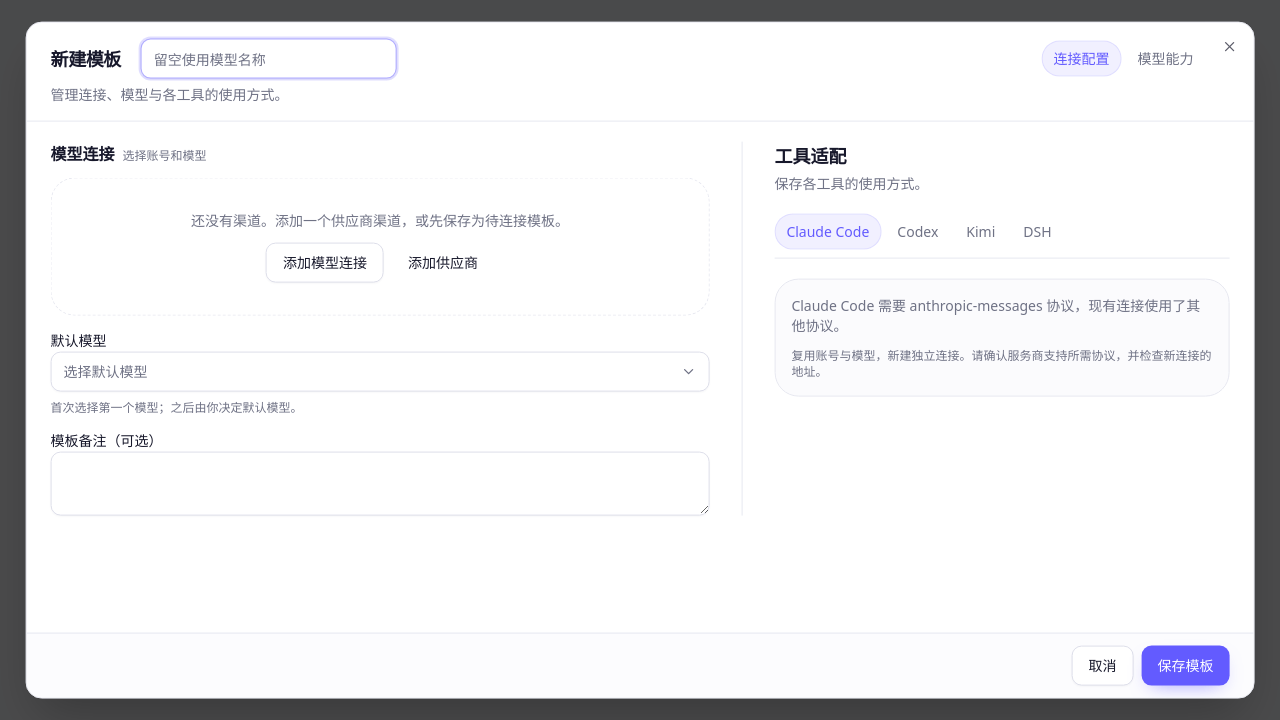
Test: model capability fields are optional and hidden until advanced settings are opened
Click the tab "模型能力": (1165,59) [1125, 41, 1205, 77]
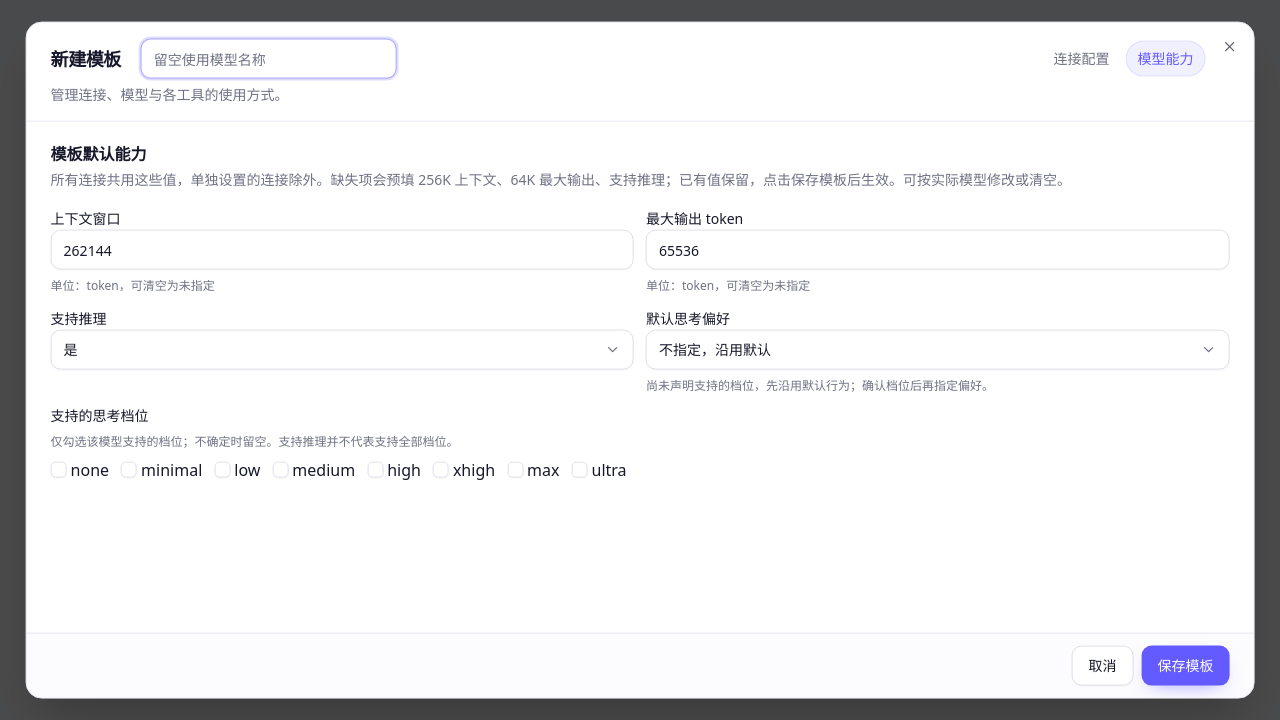
Expected: the number field labelled "上下文窗口" is shown, [51, 230, 634, 270]
